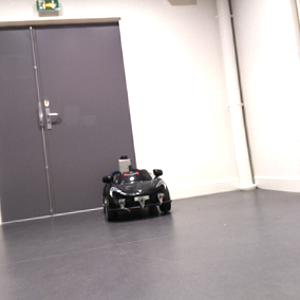big: (100, 169, 174, 221)
